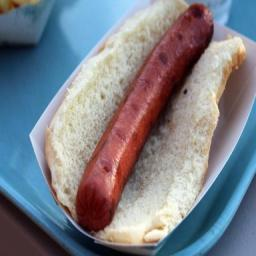hotdog: (98, 2, 214, 139), (76, 144, 128, 230)
